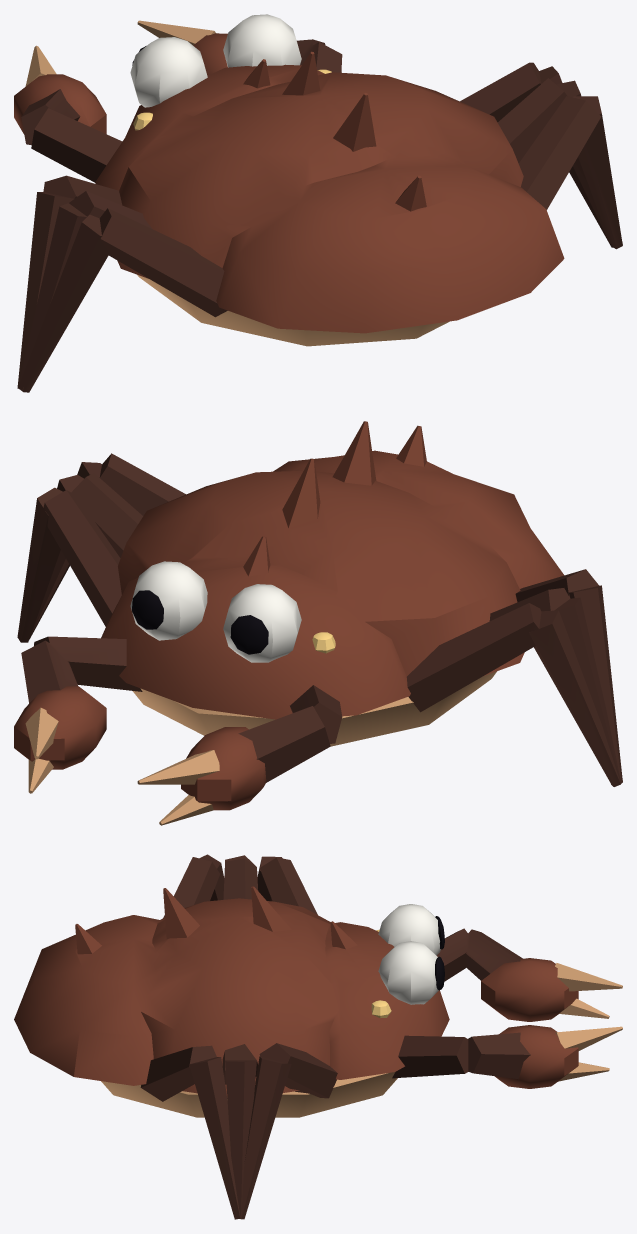
File: Cragskitter.fbx
The picture shows the model from 3 angles, top to bottom: view 1: azimuth 30°, elevation 25°; view 2: azimuth 150°, elevation 25°; view 3: azimuth 270°, elevation 25°; orthographic projection. The views are drawn at different scales.
Visible parts, largest first — view 1: Body_Shell, Body_Legs, Body_Sclera, Body_Belly; view 2: Body_Shell, Body_Legs, Body_Belly, Body_Sclera, Body_Pupil; view 3: Body_Shell, Body_Legs, Body_Belly, Body_Sclera.
Part boxes in pixels (x1,y1,x2,y2): Body_Shell: (14,33,564,333); Body_Legs: (17,39,622,392); Body_Sclera: (130,14,301,107); Body_Belly: (25,20,449,346); Body_Shell: (14,421,564,810); Body_Legs: (17,453,622,786); Body_Belly: (25,671,496,825); Body_Sclera: (130,561,301,662); Body_Pupil: (132,590,268,654); Body_Shell: (14,886,578,1097); Body_Legs: (140,854,530,1219); Body_Belly: (101,963,622,1117); Body_Sclera: (378,904,440,1004).
Size of the model in its own units: 6.51 by 2.69 by 6.92.
